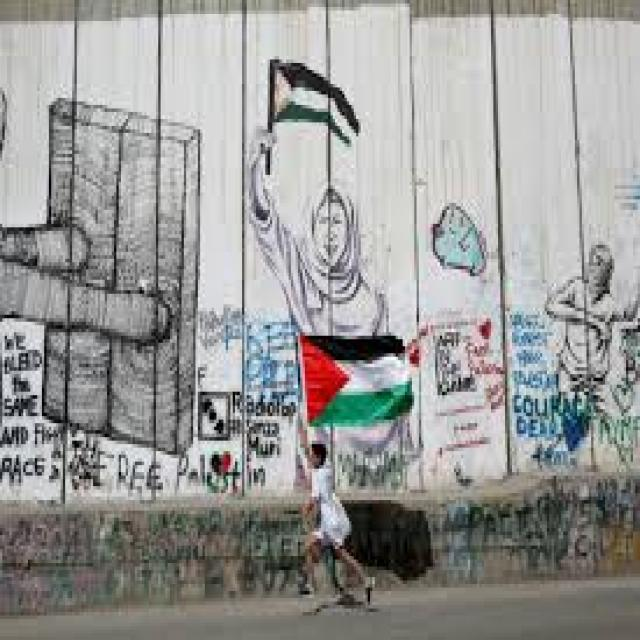-: (245, 51, 420, 491), (0, 80, 200, 452), (510, 240, 640, 478), (0, 424, 206, 502), (426, 313, 502, 466), (200, 300, 246, 498), (432, 195, 492, 294)
